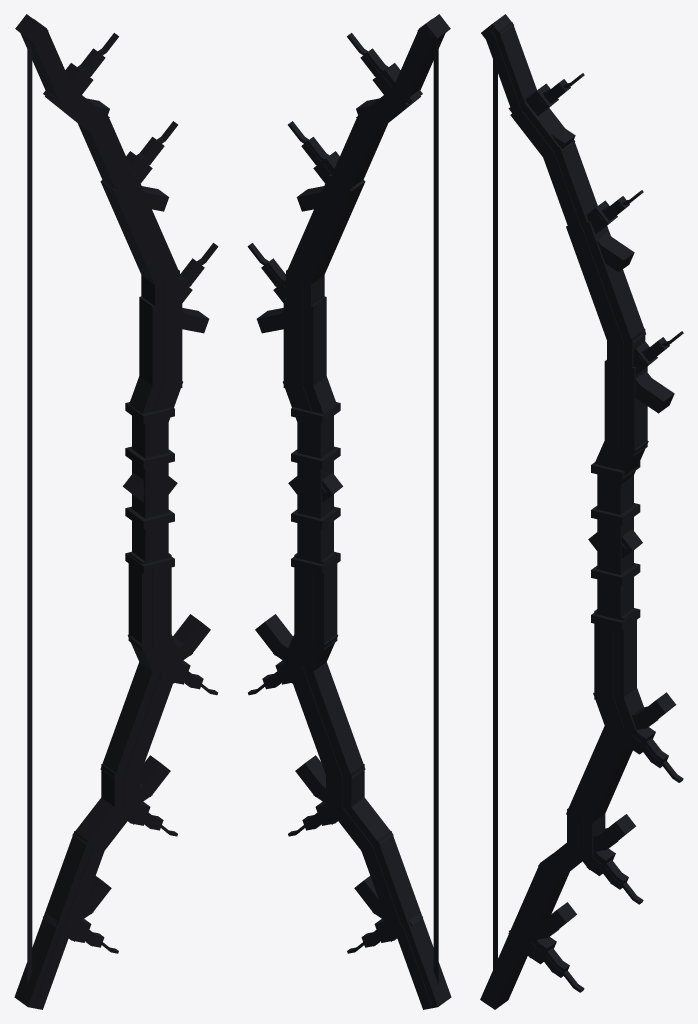
File: requiem_greatbow_smooth.obj
3 renders of one model, left to right at view 1: azimuth 30°, elevation 25°; view 2: azimuth 150°, elevation 25°; view 3: azimuth 330°, elevation 25°, orthographic.
Parts seen in each view (by area): view 1: requiem_greatbow; view 2: requiem_greatbow; view 3: requiem_greatbow.
Part boxes in pixels (left/top/right/bottom): requiem_greatbow: left=14, top=14, right=218, bottom=1009; requiem_greatbow: left=247, top=14, right=451, bottom=1009; requiem_greatbow: left=480, top=14, right=683, bottom=1009.
Size of the model in its own units: 0.5796 by 2.79 by 0.0928.
